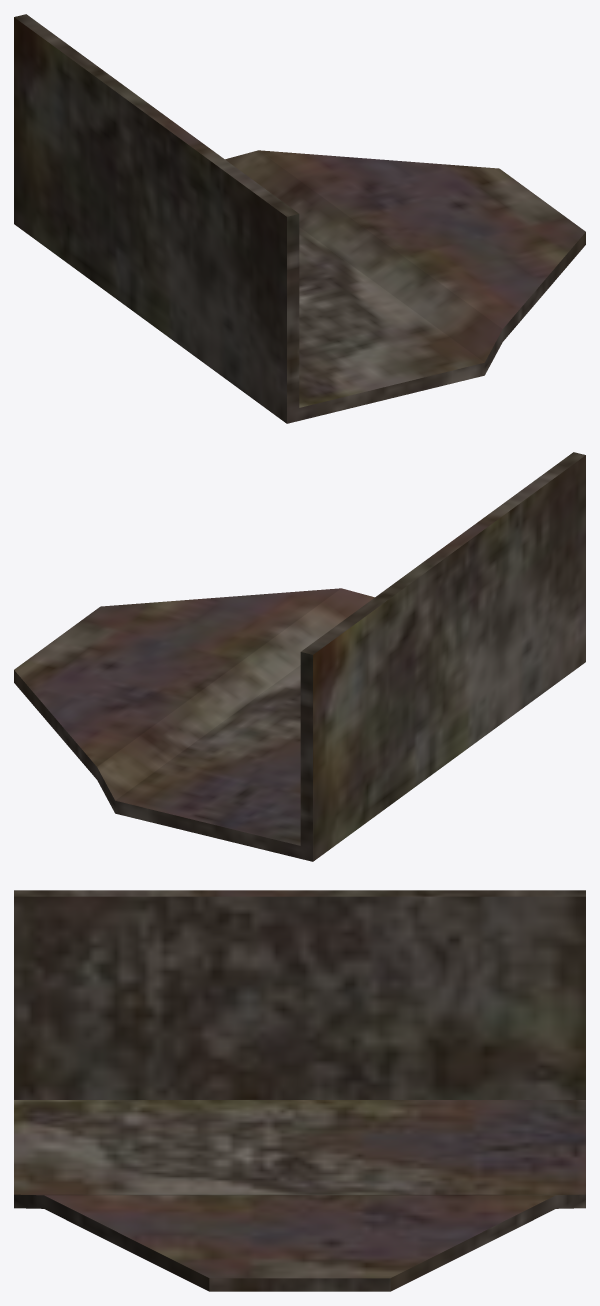
The model's file is prop_pipetower_crossbarcorner2.glb.
3 renders of one model, top to bottom at view 1: azimuth 30°, elevation 25°; view 2: azimuth 150°, elevation 25°; view 3: azimuth 270°, elevation 25°, orthographic. The views are drawn at different scales.
Bounding box in the file's own units: 17 × 8.57 × 20.49.
1 material, 1 textured.
